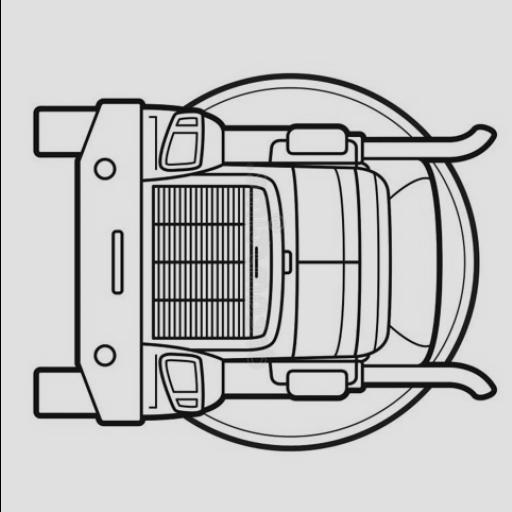truck: (30, 97, 498, 428)
